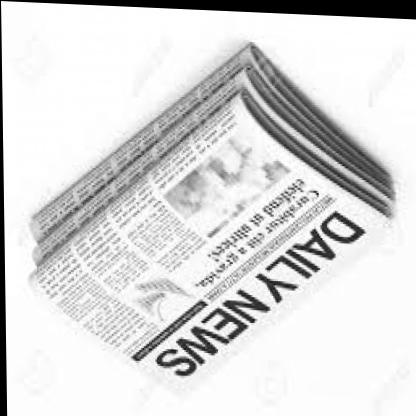trash: (31, 43, 393, 375)
